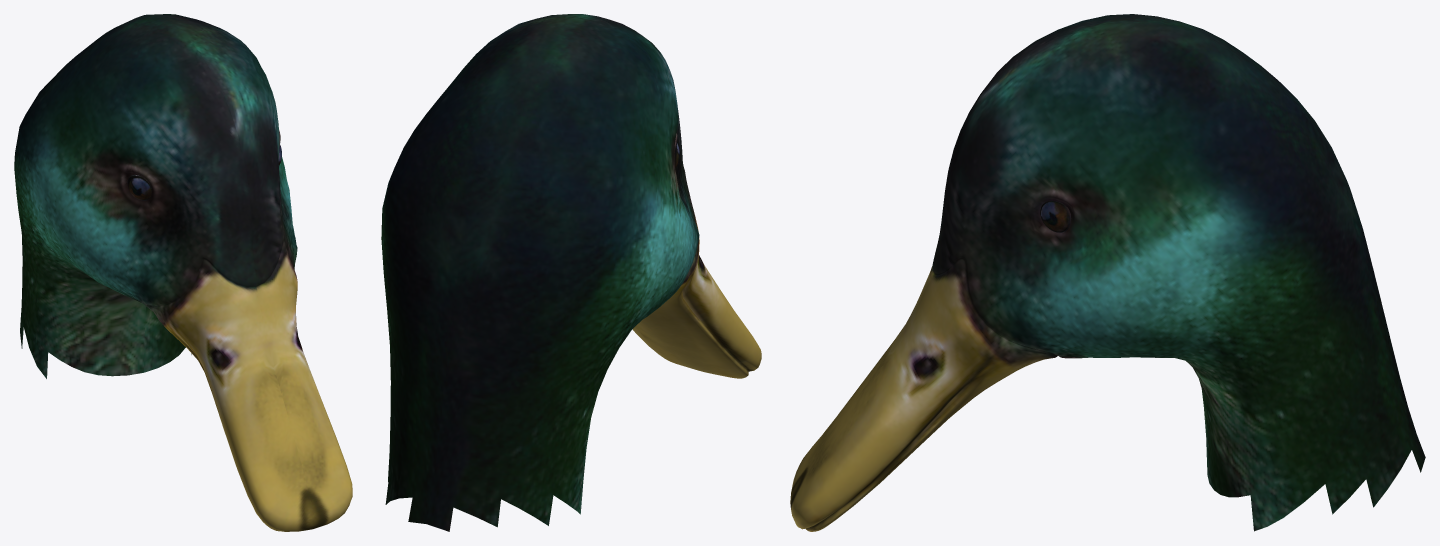
File: head2.obj
3 views of the same model, side by side, from view 1: azimuth 30°, elevation 25°; view 2: azimuth 150°, elevation 25°; view 3: azimuth 270°, elevation 25° (orthographic). The views are drawn at different scales.
Visible parts, largest first — view 1: _Bird_v1_L2:_Bird_v1; view 2: _Bird_v1_L2:_Bird_v1; view 3: _Bird_v1_L2:_Bird_v1.
Boxes of the visible parts, bbox=[...] form: _Bird_v1_L2:_Bird_v1: bbox=[14, 14, 352, 531]; _Bird_v1_L2:_Bird_v1: bbox=[381, 14, 761, 531]; _Bird_v1_L2:_Bird_v1: bbox=[790, 14, 1425, 531].
Bounding box in the file's own units: 1.34 × 2.34 × 2.73.
1 material, 1 textured.
